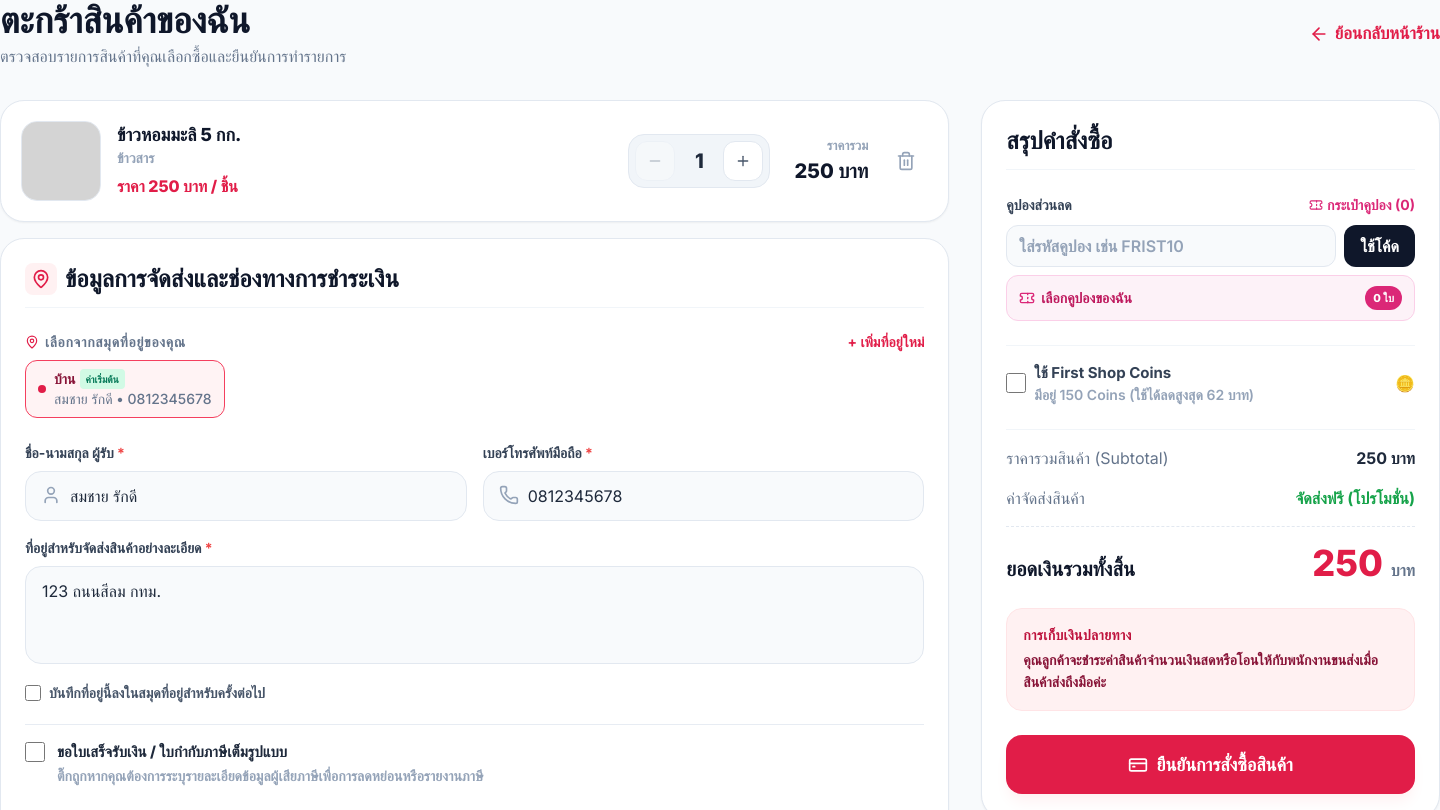
Test: CartPage Voucher Wallet Integration › renders voucher wallet button and opens modal showing empty state when no vouchers claimed
Expected: the button with test id "open-voucher-wallet-btn" reads "กระเป๋าคูปอง (0)", [1309,194,1415,214]
Click the button with test id "select-my-vouchers-btn".
click(1087, 298)  # box [1006,275,1415,321]
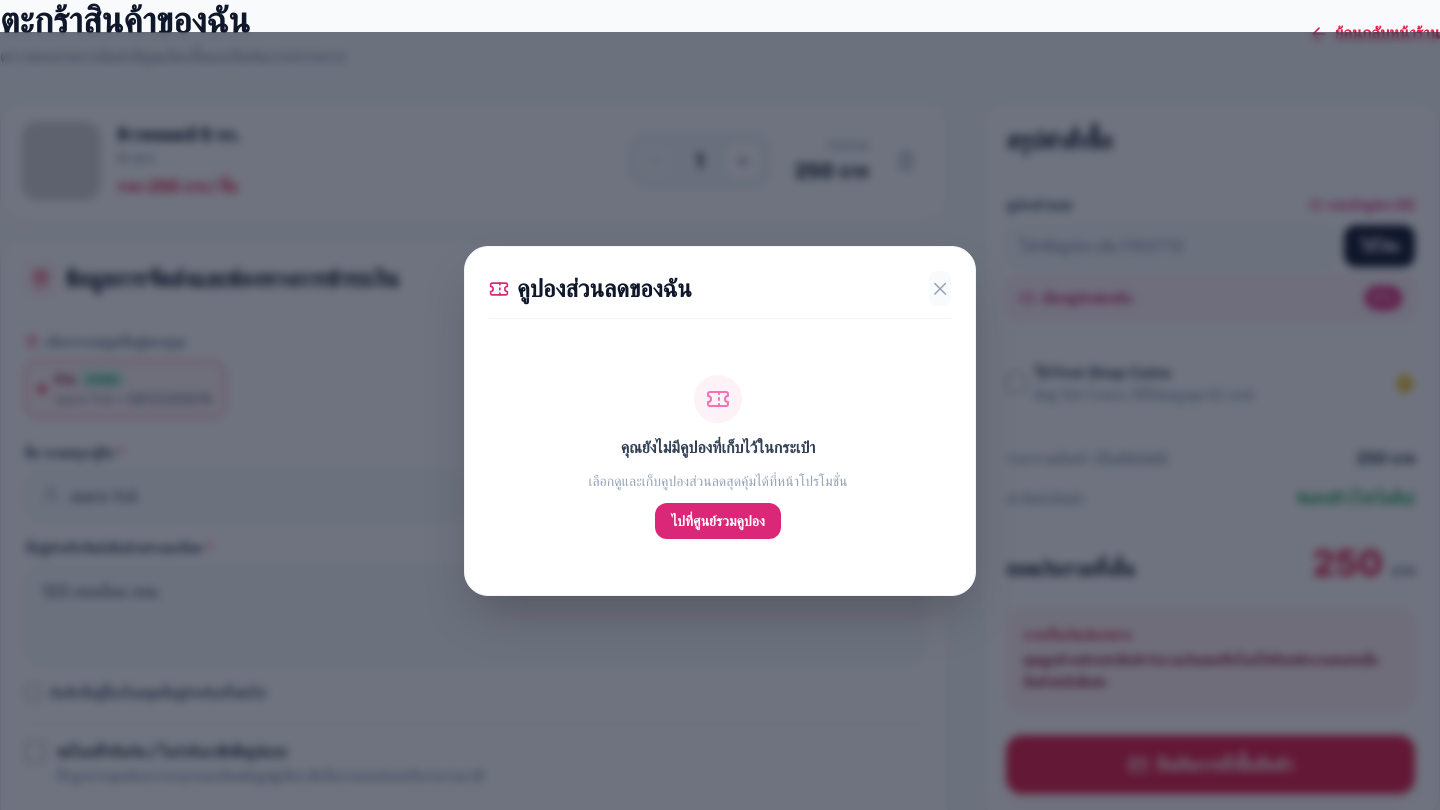
Result: the element with test id "voucher-modal" is shown
Result: the text "คุณยังไม่มีคูปองที่เก็บไว้ในกระเป๋า" is shown at [621,437,815,457]
Result: the button "ไปที่ศูนย์รวมคูปอง" is shown at [655,503,781,539]
